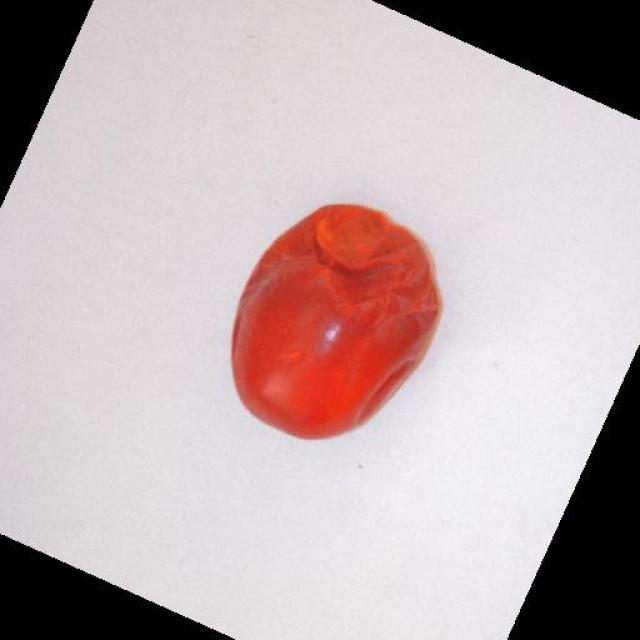Rotten Tomato: (203, 195, 457, 442)
